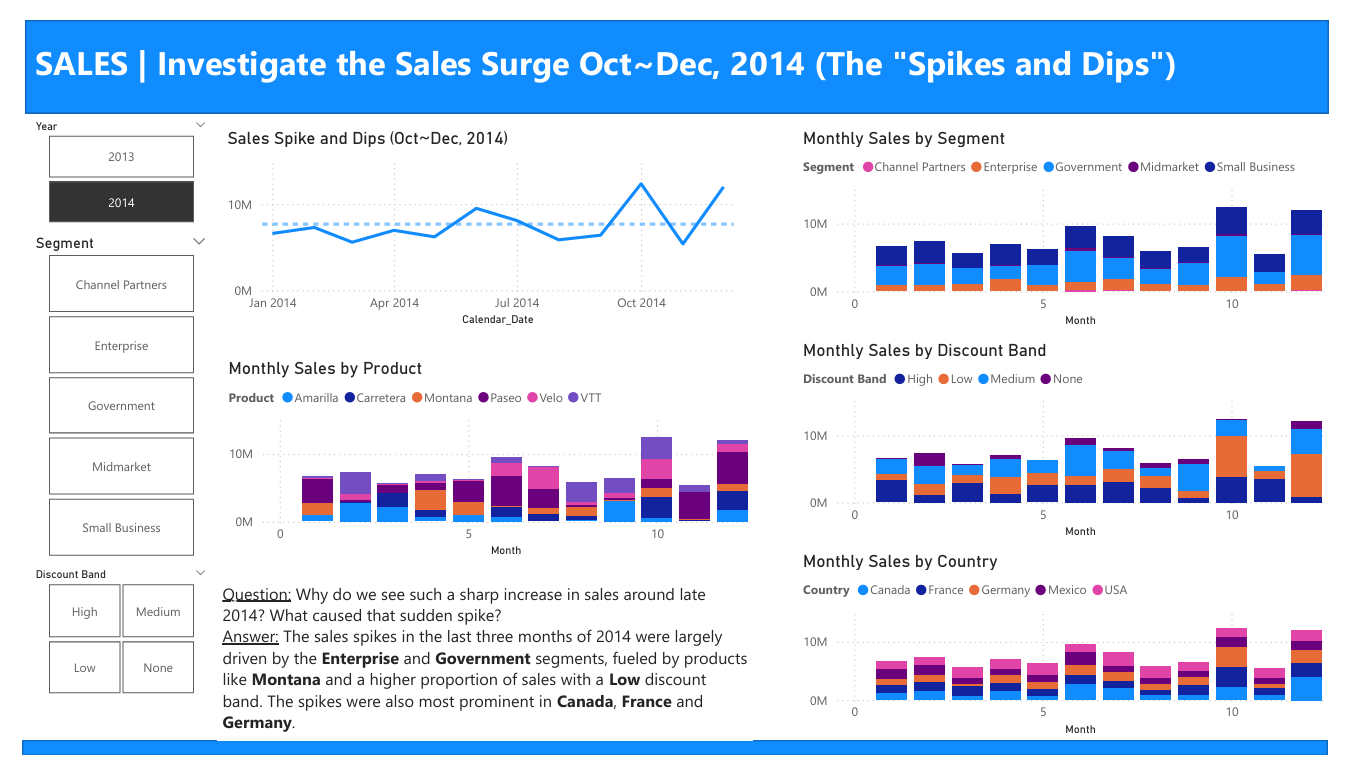

The dashboard page shown, as its layout file describes it:
{"tool":"powerbi","page":{"name":"Sales Trend late 2014","canvas":[1280,720],"ordinal":1},"visuals":[{"type":"group","id":"g1","title":"PageDesign","box":[0,0,1280.4,720.5],"z":0},{"type":"shape","box":[0,706.2,1278.9,14.3],"z":0,"group":"g1"},{"type":"shape","box":[3.2,0,1277.3,90.7],"z":500,"group":"g1"},{"type":"slicer","fields":{"Values":["Calendar.Calendar Hierarchy.Year"]},"box":[0,91.7,191.7,113.3],"z":1000},{"type":"slicer","fields":{"Values":["Financial Data.Segment"]},"box":[0,205,191.7,326.7],"z":2000},{"type":"slicer","fields":{"Values":["Financial Data.Discount Band"]},"box":[0,531.7,191.7,135],"z":3000},{"type":"textbox","title":"Title","box":[0,0,534.4,90.7],"z":4000},{"type":"lineChart","title":"Sales Spike and Dips (Oct~Dec, 2014)","fields":{"Y":["Sum(Financial Data. Sales)"],"Category":["Calendar.Calendar_Date"]},"box":[195.6,105,520.1,198.8],"z":5000},{"type":"columnChart","title":"Monthly Sales by Product","fields":{"Category":["Calendar.Calendar Hierarchy.Month"],"Y":["Sum(Financial Data. Sales)"],"Series":["Financial Data.Product"]},"box":[197.2,330.8,520.1,200.4],"z":6000},{"type":"columnChart","title":"Monthly Sales by Segment","fields":{"Category":["Calendar.Calendar Hierarchy.Month"],"Y":["Sum(Financial Data. Sales)"],"Series":["Financial Data.Segment"]},"box":[760.3,105,520.1,200.4],"z":7000},{"type":"columnChart","title":"Monthly Sales by Discount Band","fields":{"Category":["Calendar.Calendar Hierarchy.Month"],"Y":["Sum(Financial Data. Sales)"],"Series":["Financial Data.Discount Band"]},"box":[760.3,313.4,520.1,198.8],"z":8000},{"type":"textbox","box":[190.9,545.6,524.9,160.7],"z":9000},{"type":"columnChart","title":"Monthly Sales by Country","fields":{"Category":["Calendar.Calendar Hierarchy.Month"],"Y":["Sum(Financial Data. Sales)"],"Series":["Financial Data.Country"]},"box":[760.3,520.1,520.1,186.1],"z":10000},{"type":"pageNavigator","box":[639,0,641,90.7],"z":11000}]}

Visuals, with their boxes in screenshot pixels (x1, y1, x2, y2), scaled from the page's 1280x720 canvas onto the 1353x775 screenshot:
"PageDesign" group: left=0, top=0, right=1352, bottom=774
shape: left=0, top=760, right=1352, bottom=774
shape: left=3, top=0, right=1352, bottom=98
slicer - Calendar.Calendar Hierarchy.Year: left=0, top=99, right=203, bottom=221
slicer - Financial Data.Segment: left=0, top=221, right=203, bottom=572
slicer - Financial Data.Discount Band: left=0, top=572, right=203, bottom=718
"Title" textbox: left=0, top=0, right=565, bottom=98
"Sales Spike and Dips (Oct~Dec, 2014)" lineChart: left=207, top=113, right=757, bottom=327
"Monthly Sales by Product" columnChart: left=208, top=356, right=758, bottom=572
"Monthly Sales by Segment" columnChart: left=804, top=113, right=1352, bottom=329
"Monthly Sales by Discount Band" columnChart: left=804, top=337, right=1352, bottom=551
textbox: left=202, top=587, right=757, bottom=760
"Monthly Sales by Country" columnChart: left=804, top=560, right=1352, bottom=760
pageNavigator: left=675, top=0, right=1352, bottom=98
